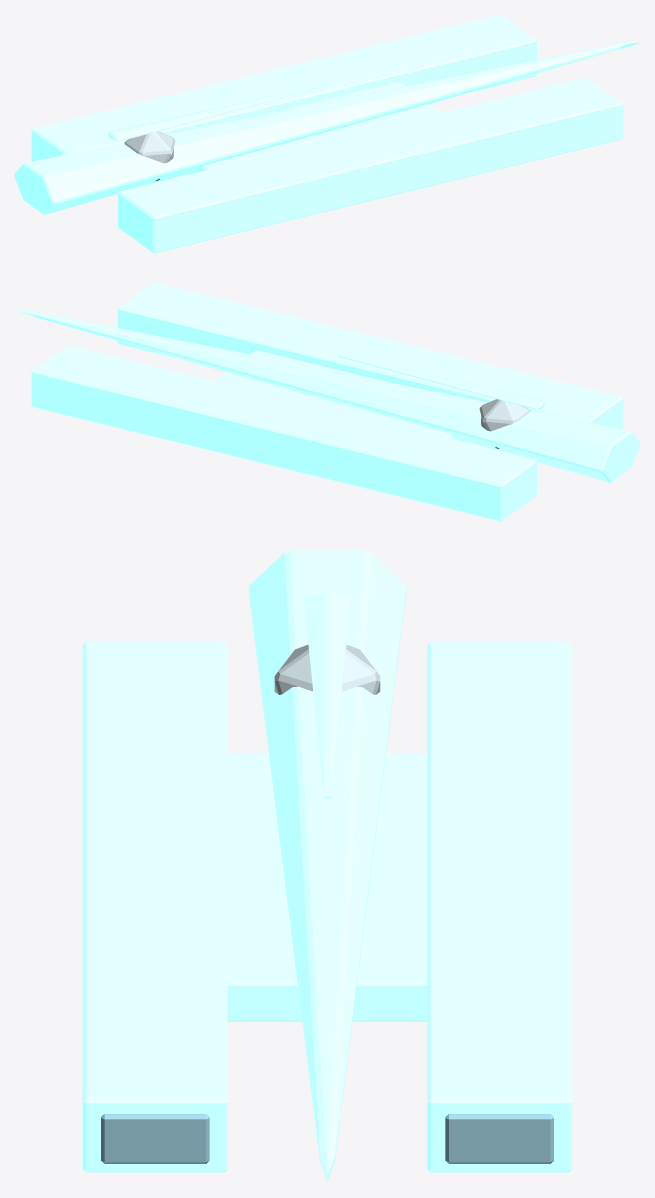
The model's file is SM_PhantomCarrier.fbx.
3 renders of one model, top to bottom at view 1: azimuth 30°, elevation 25°; view 2: azimuth 150°, elevation 25°; view 3: azimuth 270°, elevation 25°, orthographic. The views are drawn at different scales.
Parts seen in each view (by area): view 1: SM_PhantomCarrier; view 2: SM_PhantomCarrier; view 3: SM_PhantomCarrier.
Part boxes in pixels (box(x1,y1,x2,y2)): SM_PhantomCarrier: box(14, 14, 640, 253); SM_PhantomCarrier: box(15, 282, 640, 521); SM_PhantomCarrier: box(82, 550, 572, 1183).
Size of the model in its own units: 310 by 34.56 by 108.
